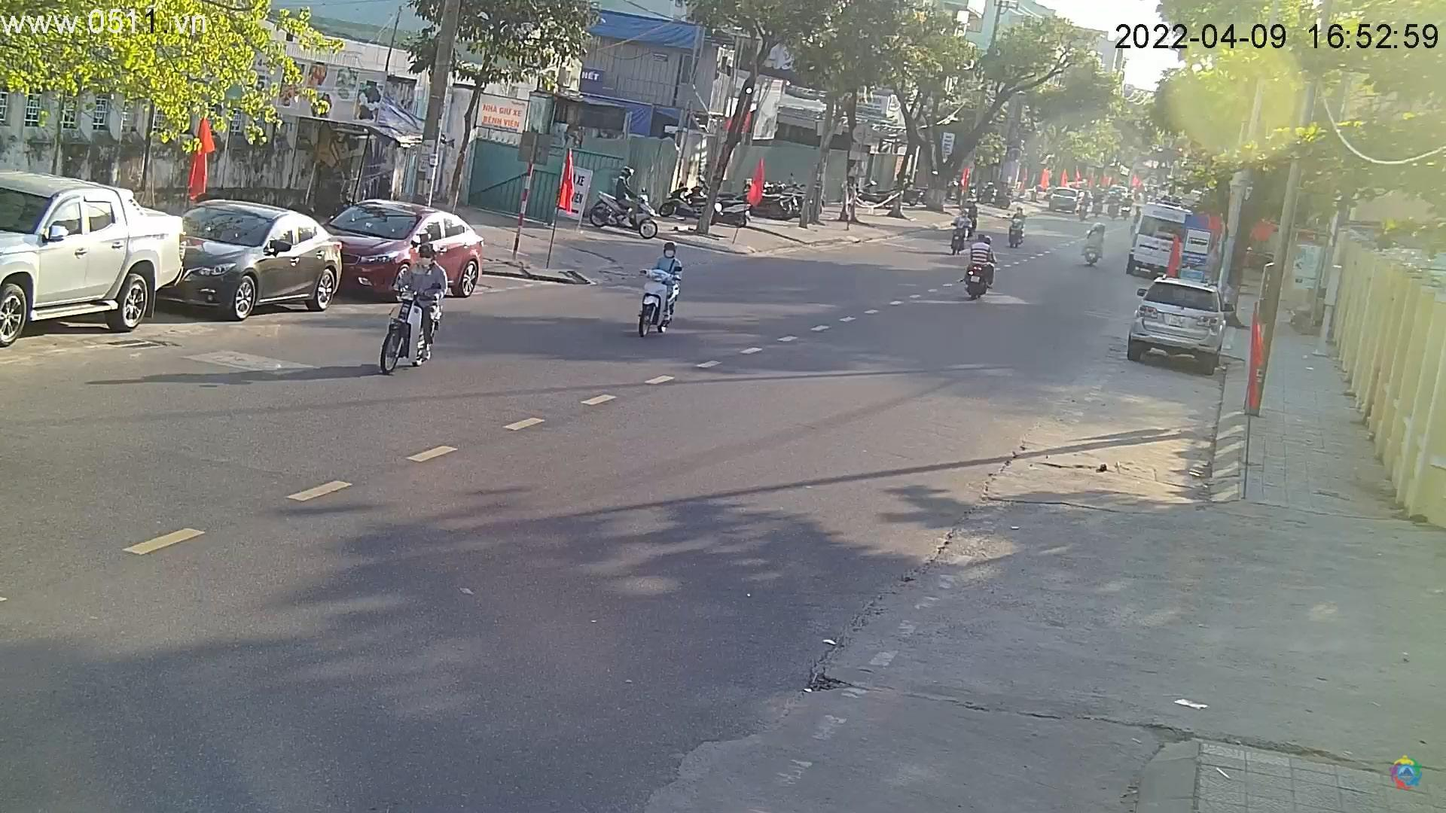car: (2, 169, 187, 352), (166, 201, 352, 322), (322, 200, 487, 300)
motorbike: (374, 269, 447, 375), (631, 256, 692, 343)
